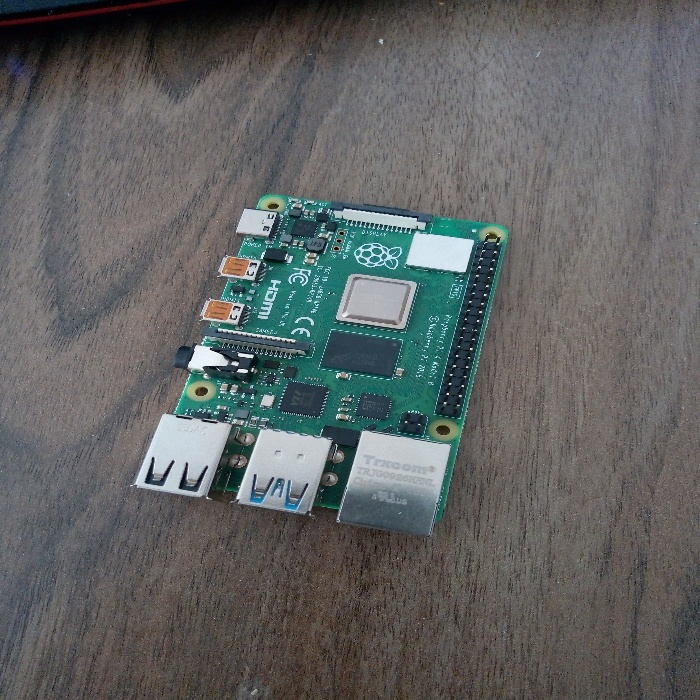raspberry: (149, 187, 534, 584)
